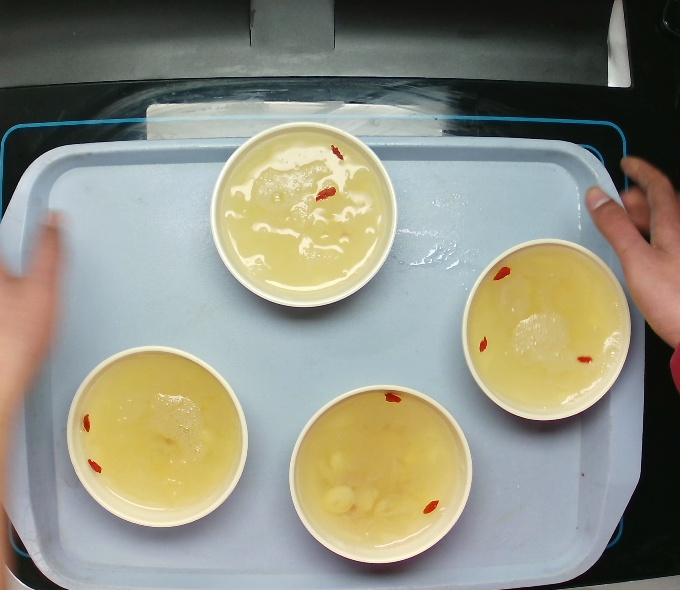wcq-YinErLianZiGeng: (269, 373, 484, 579), (197, 113, 398, 320), (51, 339, 253, 542), (447, 235, 637, 437)
